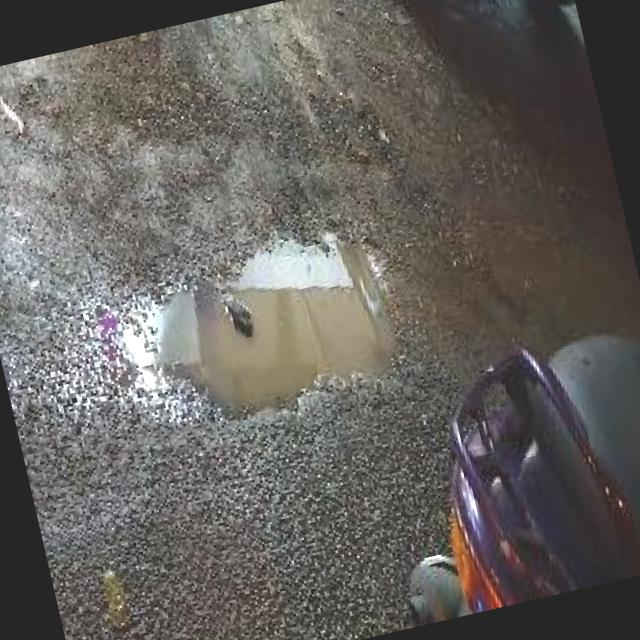stagnation: (71, 185, 462, 466)
